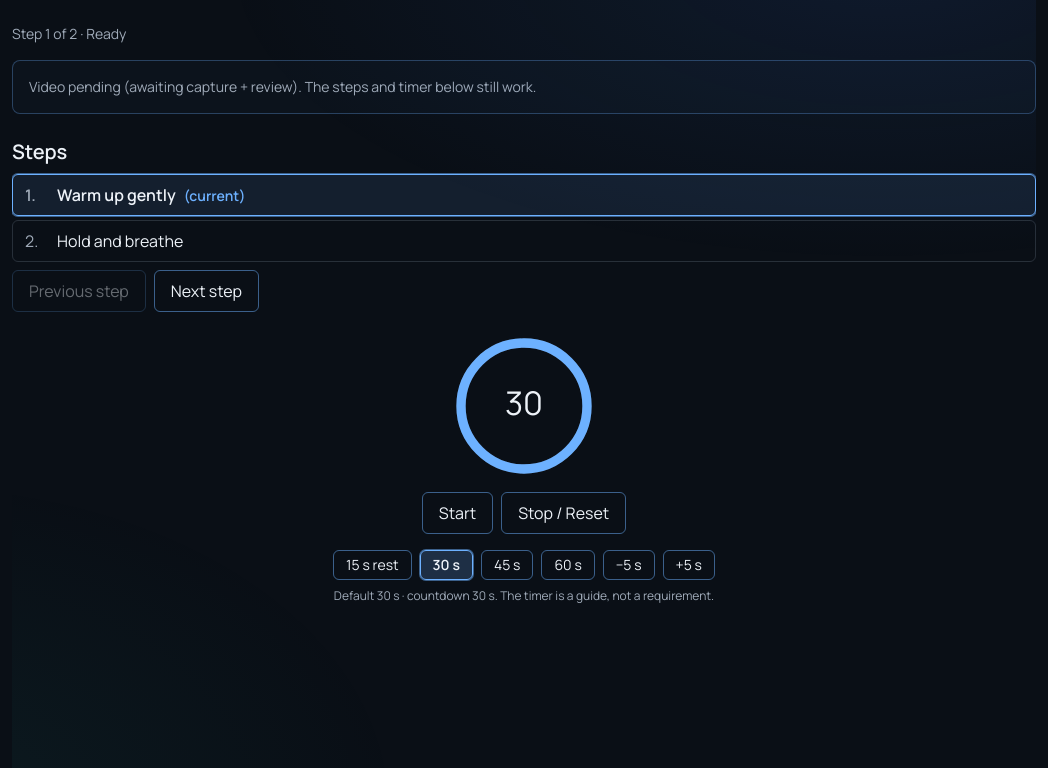
Scenario: ExerciseSession integration: adjustable countdown with rest preset › locks the control once the countdown runs; Stop / Reset unlocks it
Click the button "Start" at (457, 513), box [422,492,493,534]
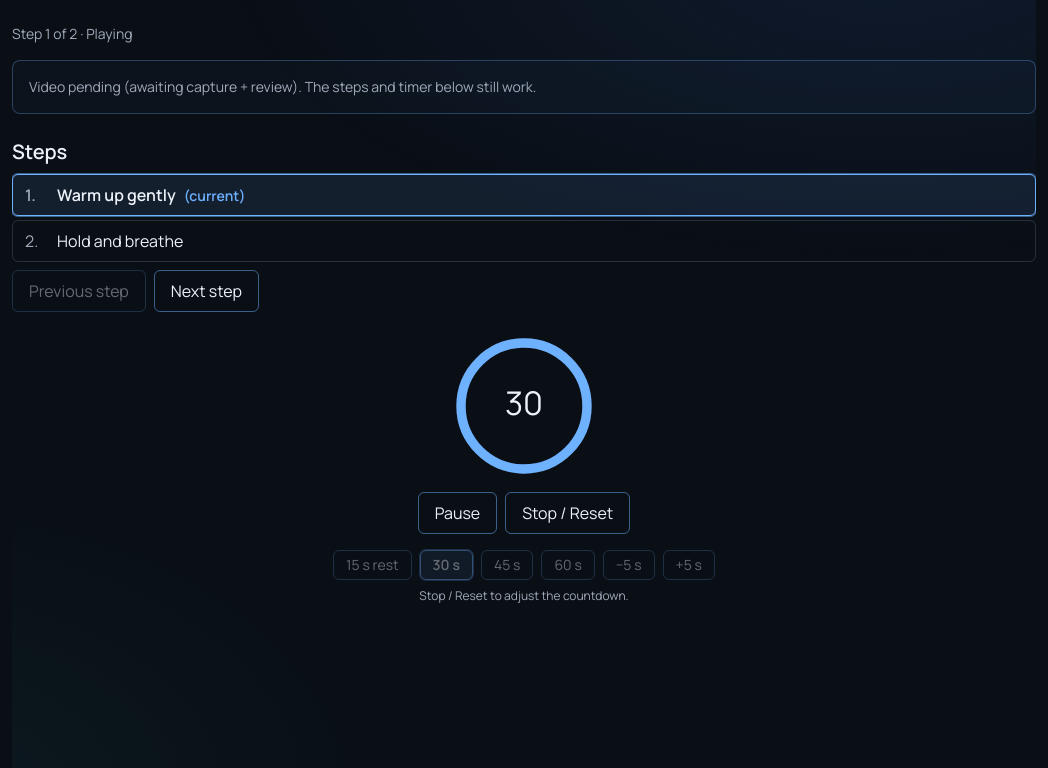
Result: the button "15 s rest" is disabled at [333,550,412,580]
Click the button "Stop / Reset" at (568, 513), box [505,492,630,534]
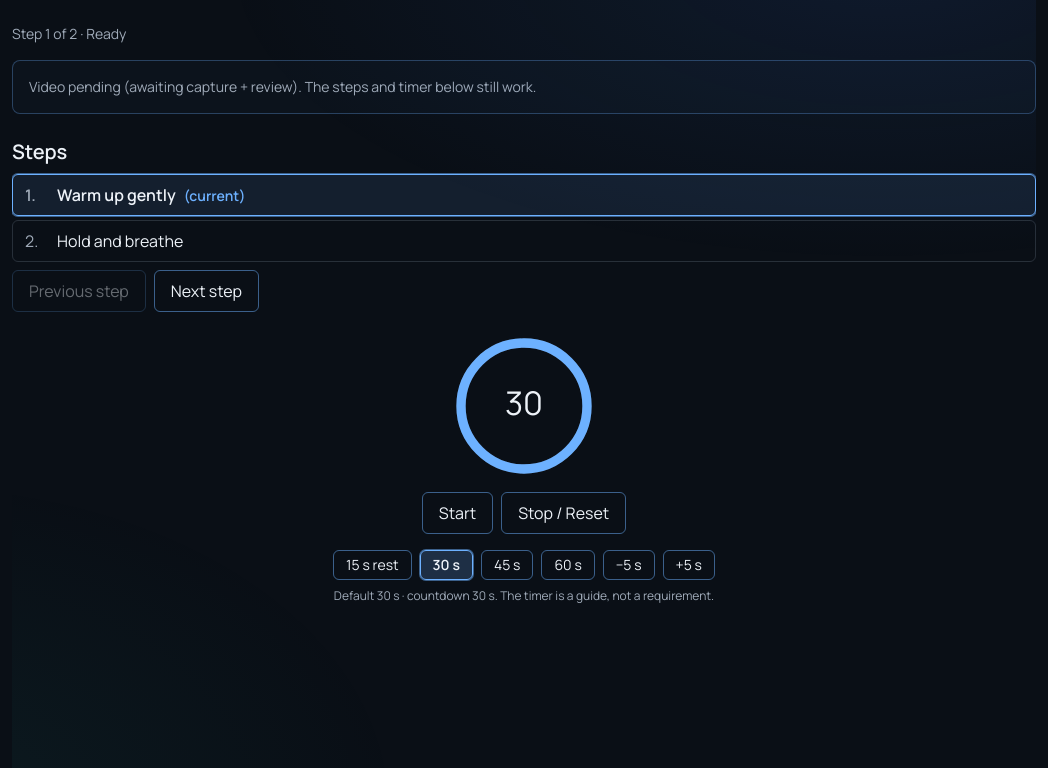
Result: the button "15 s rest" is enabled at [333,550,412,580]
